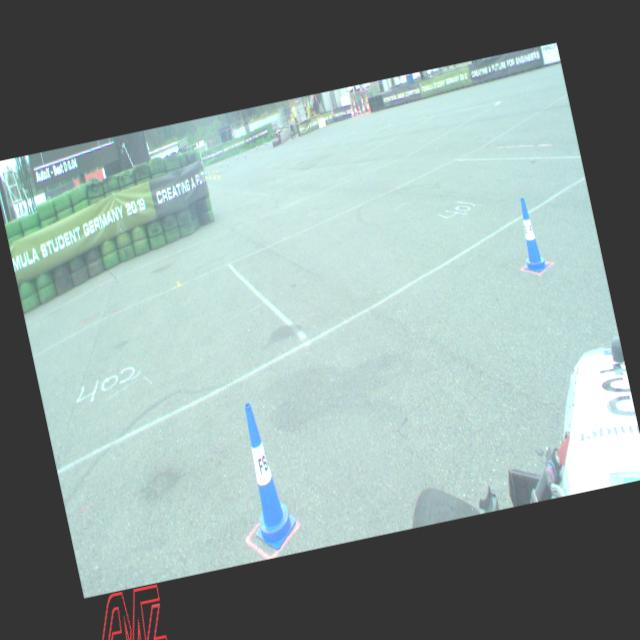blue_cone: (230, 397, 300, 553), (510, 194, 549, 274), (225, 159, 228, 166), (242, 151, 245, 158), (235, 154, 238, 160), (220, 162, 222, 168)
large_orange_cone: (364, 94, 371, 113), (359, 95, 366, 114), (352, 98, 358, 116), (349, 106, 354, 117), (357, 103, 361, 115)
yellow_cone: (216, 170, 220, 178), (212, 170, 216, 178), (205, 170, 208, 178), (208, 171, 211, 178)
